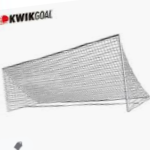goals: (2, 33, 150, 112)
